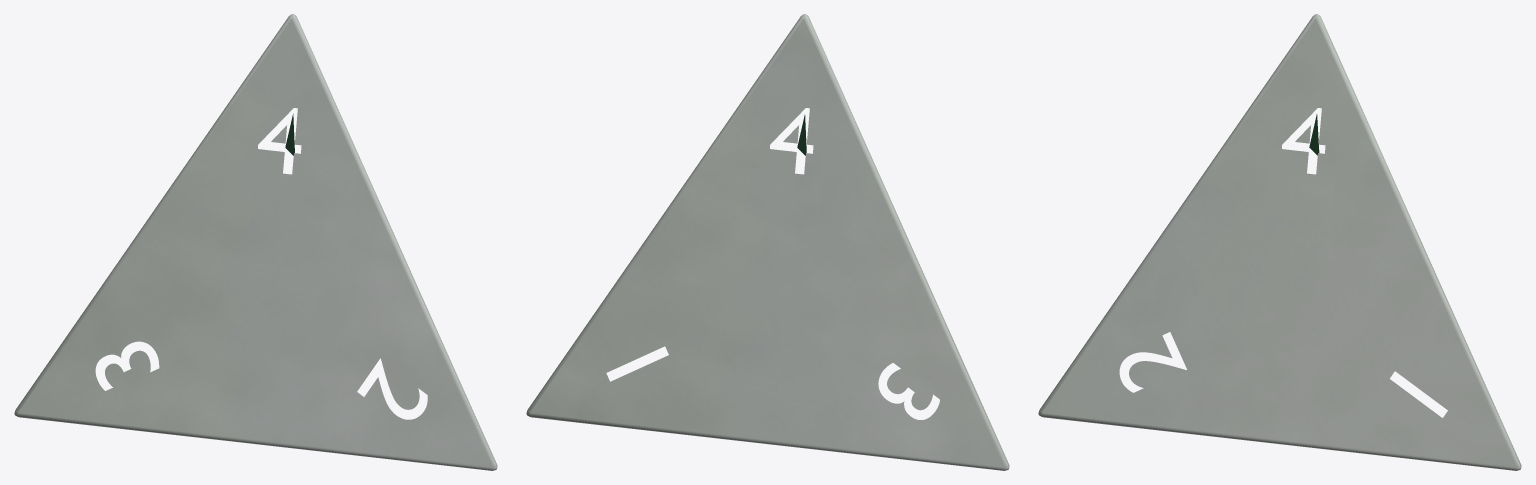
3 renders of one model, left to right at view 1: azimuth 30°, elevation 25°; view 2: azimuth 150°, elevation 25°; view 3: azimuth 270°, elevation 25°, orthographic.
Visible parts, largest first — view 1: Jade D4; view 2: Jade D4; view 3: Jade D4.
Boxes of the visible parts, <box> form: Jade D4: <box>14,14,497,470</box>; Jade D4: <box>526,14,1009,470</box>; Jade D4: <box>1038,14,1521,470</box>.
Size of the model in its own units: 1.11 by 0.9403 by 1.11.
2 materials, 1 textured.
